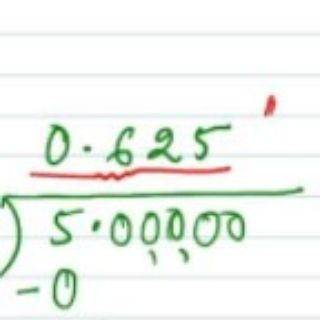.: (80, 139, 95, 158), (91, 217, 106, 236)
0: (42, 119, 74, 166), (51, 266, 79, 311)
2: (146, 125, 185, 165)
5: (191, 121, 234, 163), (47, 204, 86, 250)
6: (106, 124, 136, 168)
